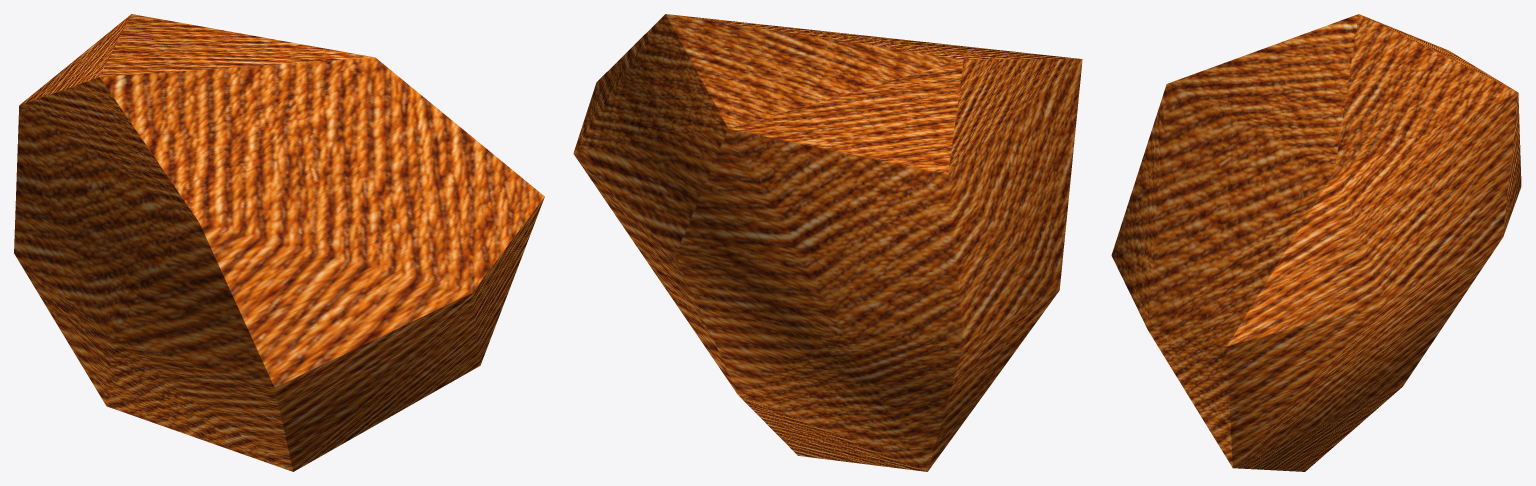
Rendered from mm9_deco_stoneorange.glb.
3 views of the same model, side by side, from view 1: azimuth 30°, elevation 25°; view 2: azimuth 150°, elevation 25°; view 3: azimuth 270°, elevation 25° (orthographic). The views are drawn at different scales.
Visible parts, largest first — view 1: Stoneorange; view 2: Stoneorange; view 3: Stoneorange.
Boxes of the visible parts, x1=… form: Stoneorange: x1=14, y1=14, x2=544, y2=471; Stoneorange: x1=573, y1=14, x2=1082, y2=471; Stoneorange: x1=1111, y1=14, x2=1521, y2=471.
Size of the model in its own units: 0.2098 by 0.1882 by 0.1843.
Materials: 1 (1 with a texture image).
